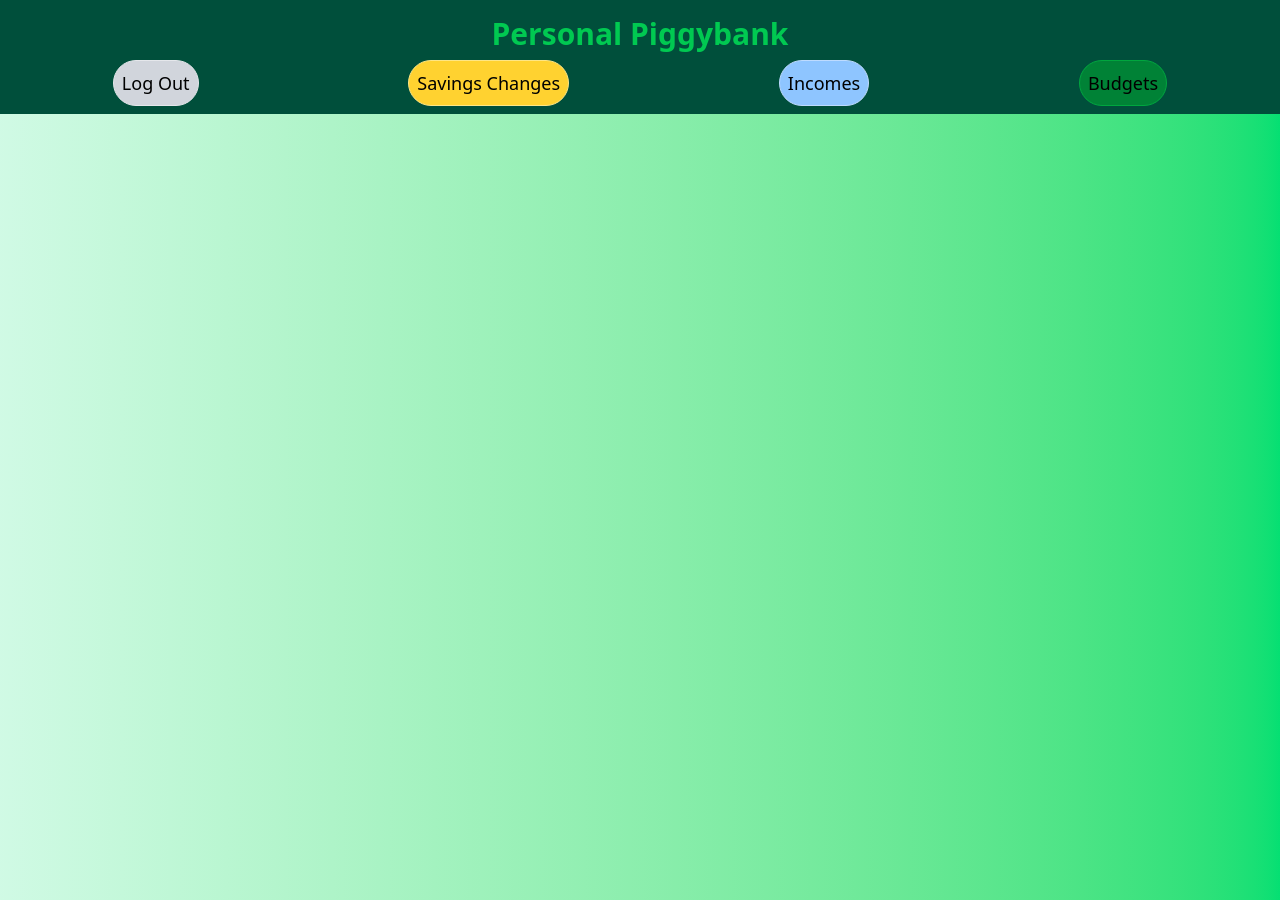
Navbar › should show a prompt when user clicks log out button
Check: the text "Are You Sure You Want to Log Out?" is not shown
What coordinates should you click on to do the following:
click the button "Log Out"
I would click on:
 (156, 83)
Its box is x1=113 y1=60 x2=199 y2=106.
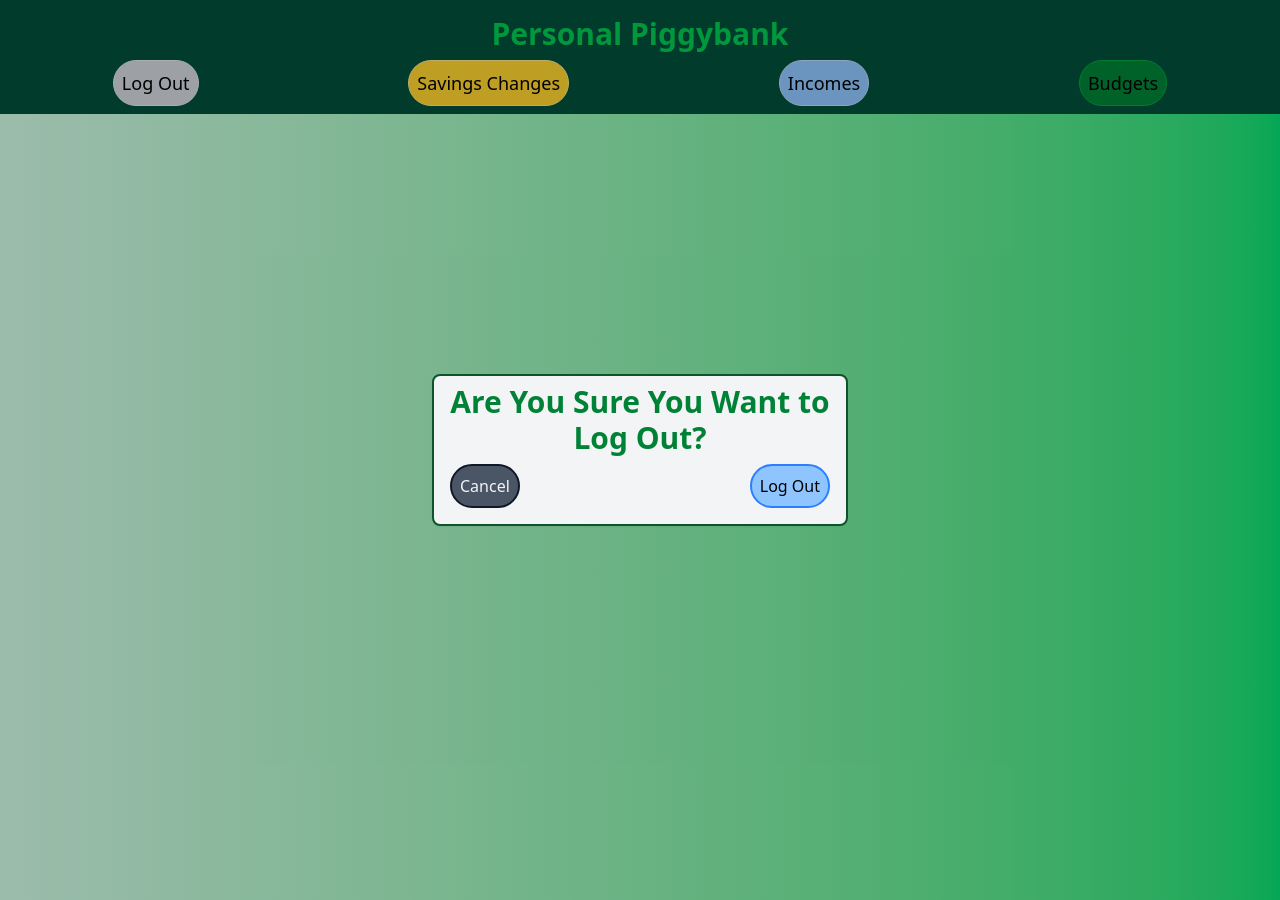
Check: the text "Are You Sure You Want to Log Out?" is shown, box x1=442 y1=384 x2=838 y2=456
